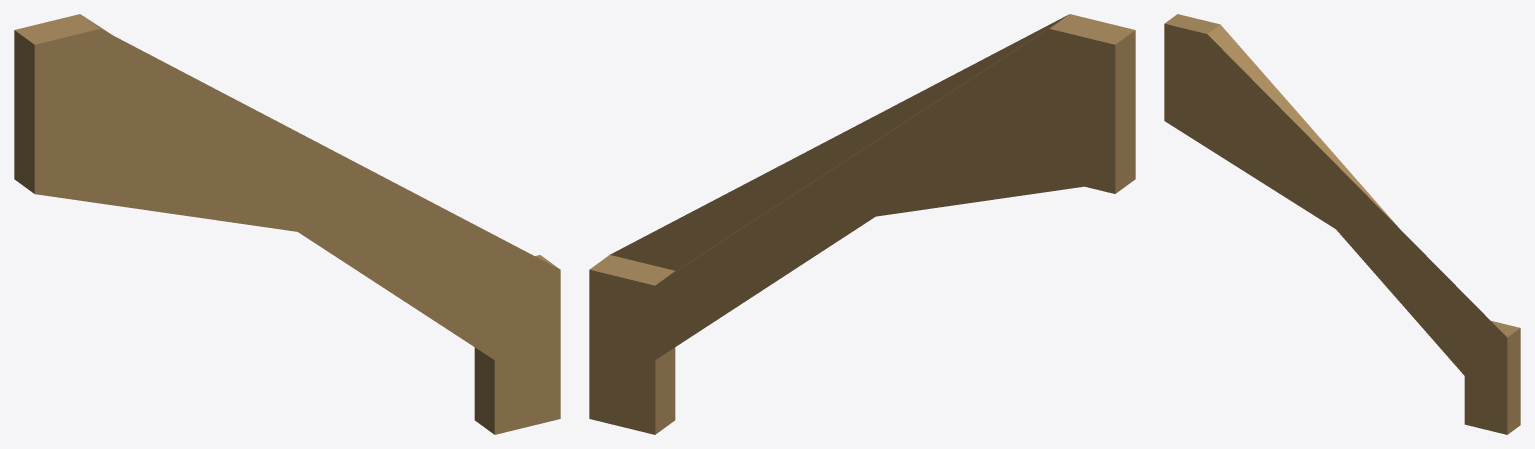
Rendered from wood_railing_01.glb.
The picture shows the model from 3 angles, left to right: view 1: azimuth 30°, elevation 25°; view 2: azimuth 150°, elevation 25°; view 3: azimuth 330°, elevation 25°; orthographic projection. The views are drawn at different scales.
Visible parts, largest first — view 1: Mesh1 Wood_Railing Model; view 2: Mesh1 Wood_Railing Model; view 3: Mesh1 Wood_Railing Model.
Part boxes in pixels (x1,y1,x2,y2): Mesh1 Wood_Railing Model: [14, 14, 560, 434]; Mesh1 Wood_Railing Model: [589, 14, 1135, 434]; Mesh1 Wood_Railing Model: [1164, 14, 1520, 434].
Size of the model in its own units: 3 by 2.74 by 0.2.
